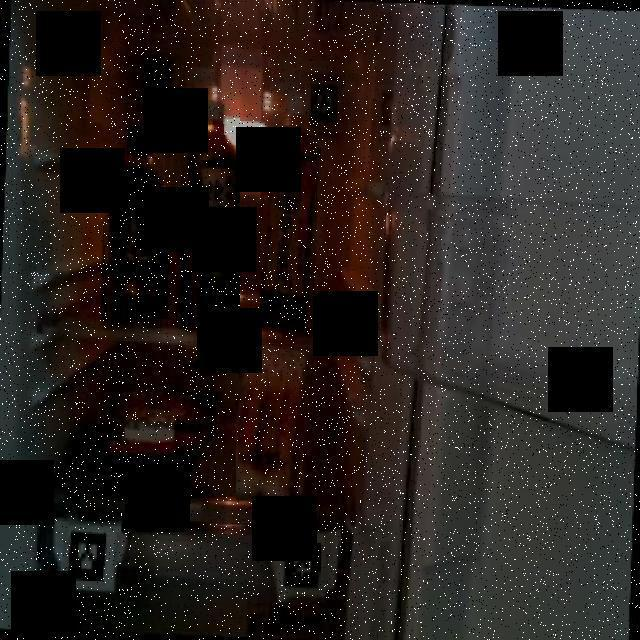bento: (77, 392, 223, 482)
bottle: (174, 100, 240, 329), (260, 117, 318, 328)
coffee: (99, 121, 170, 319)
sandwich: (236, 340, 312, 500)
